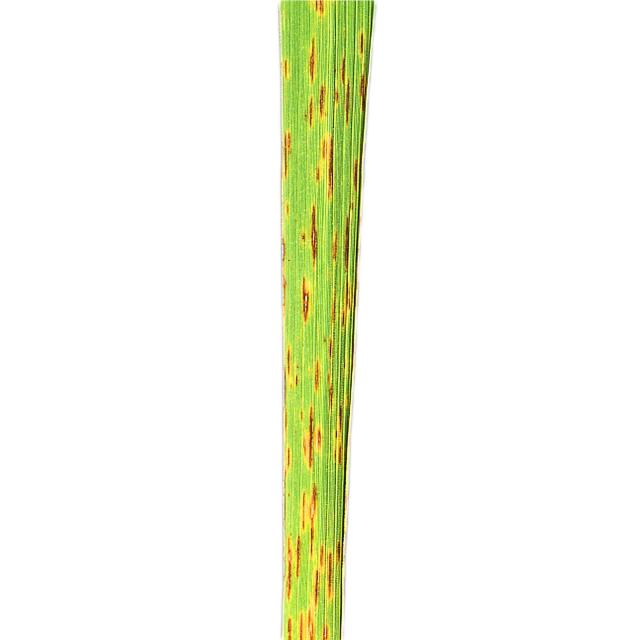Narrow brown: (210, 0, 428, 640)
